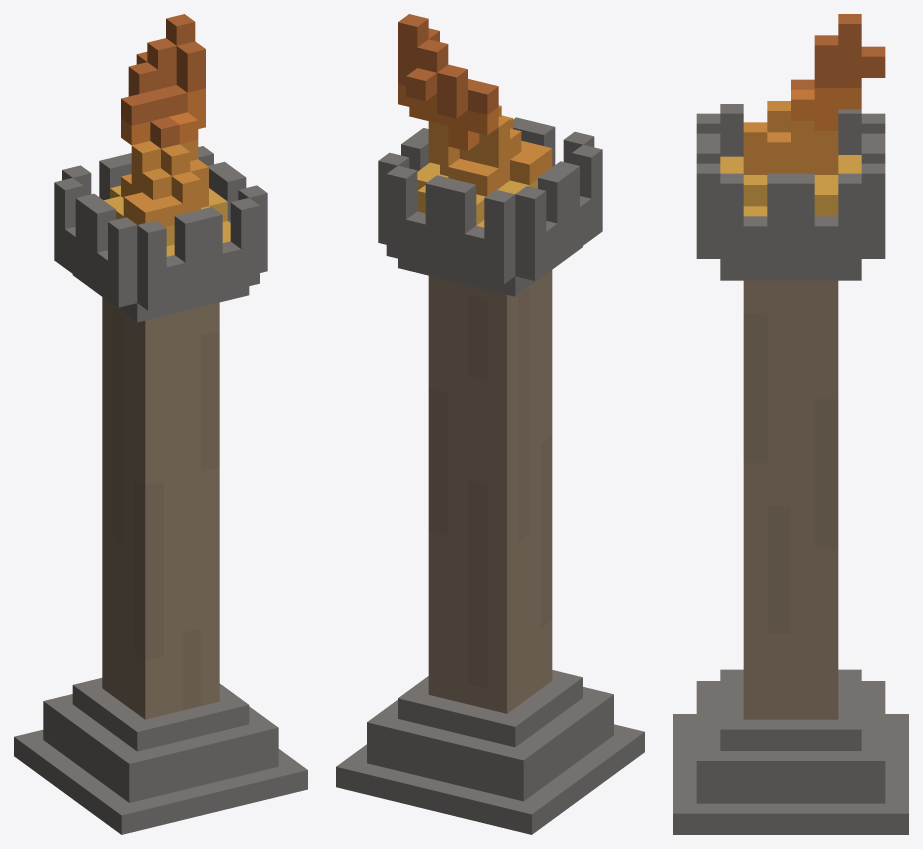
Rendered from Torch11.obj.
3 views of the same model, side by side, from view 1: azimuth 30°, elevation 25°; view 2: azimuth 150°, elevation 25°; view 3: azimuth 270°, elevation 25° (orthographic). The views are drawn at different scales.
Size of the model in its own units: 1 by 3.7 by 1.
Materials: 1 (1 with a texture image).
